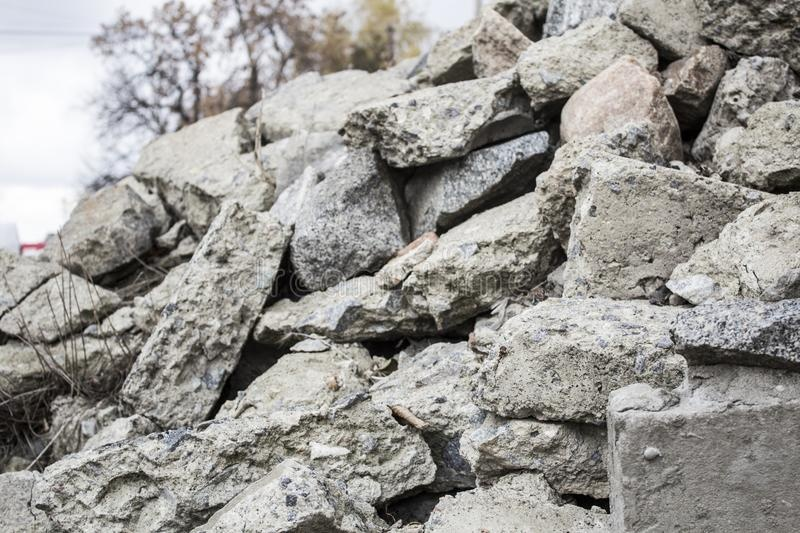obstacle: (0, 0, 799, 531)
